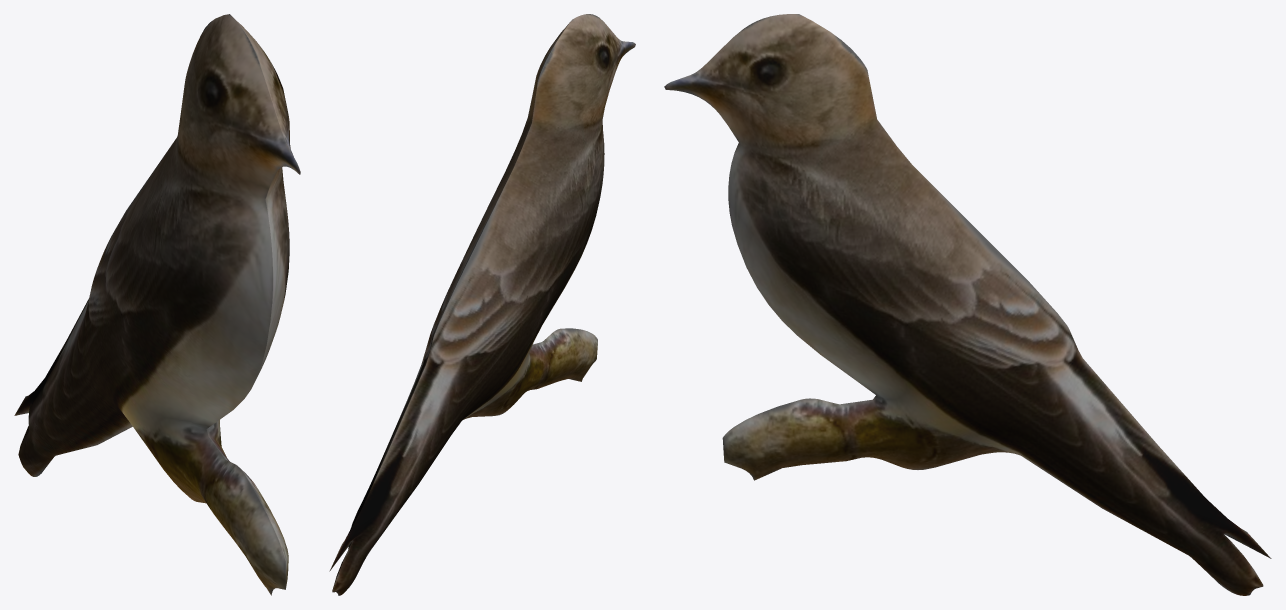
File: 1200-removebg-preview.gltf
3 views of the same model, side by side, from view 1: azimuth 30°, elevation 25°; view 2: azimuth 150°, elevation 25°; view 3: azimuth 270°, elevation 25° (orthographic). The views are drawn at different scales.
Visible parts, largest first — view 1: node1; view 2: node1; view 3: node1.
Part boxes in pixels (<box>): node1: <box>14,14,300,595</box>; node1: <box>329,14,635,595</box>; node1: <box>664,14,1271,595</box>.
Bounding box in the file's own units: 0.2406 × 1.19 × 1.19.
1 material, 1 textured.
